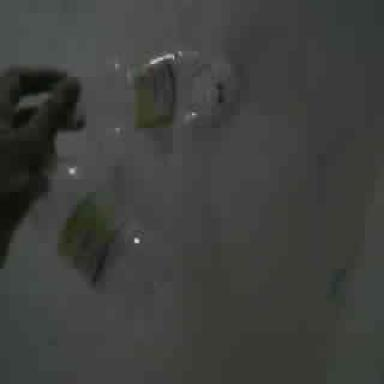bottle: (24, 158, 195, 351), (58, 42, 231, 146)
